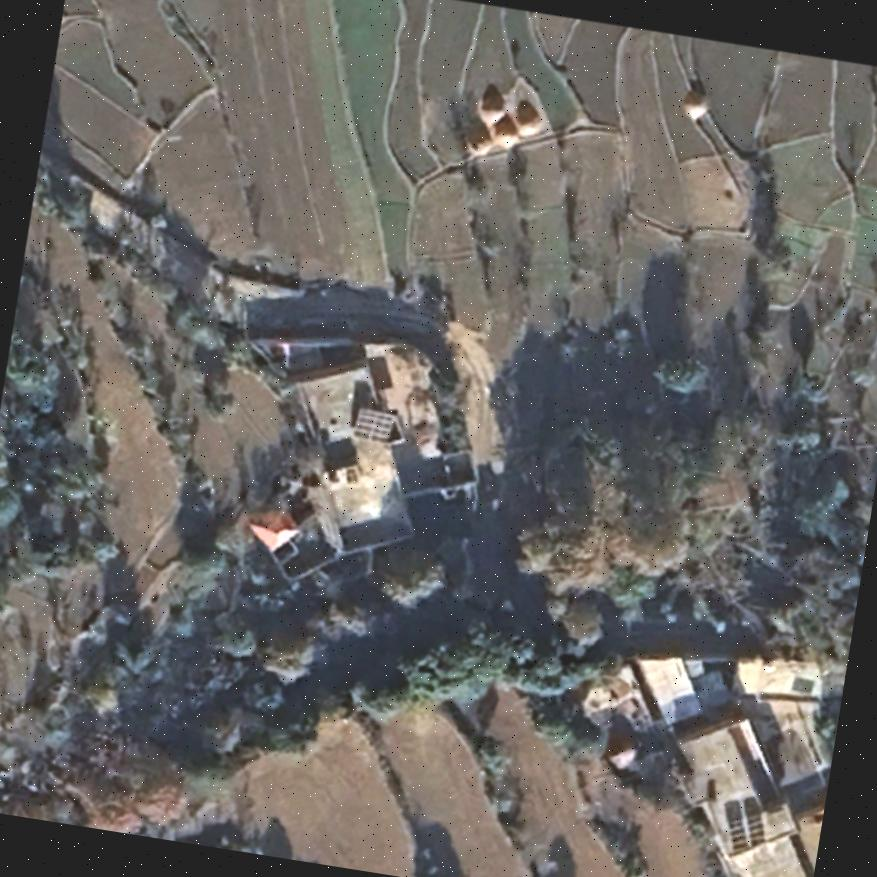Solarpanel: (348, 402, 398, 445), (723, 809, 767, 856)
